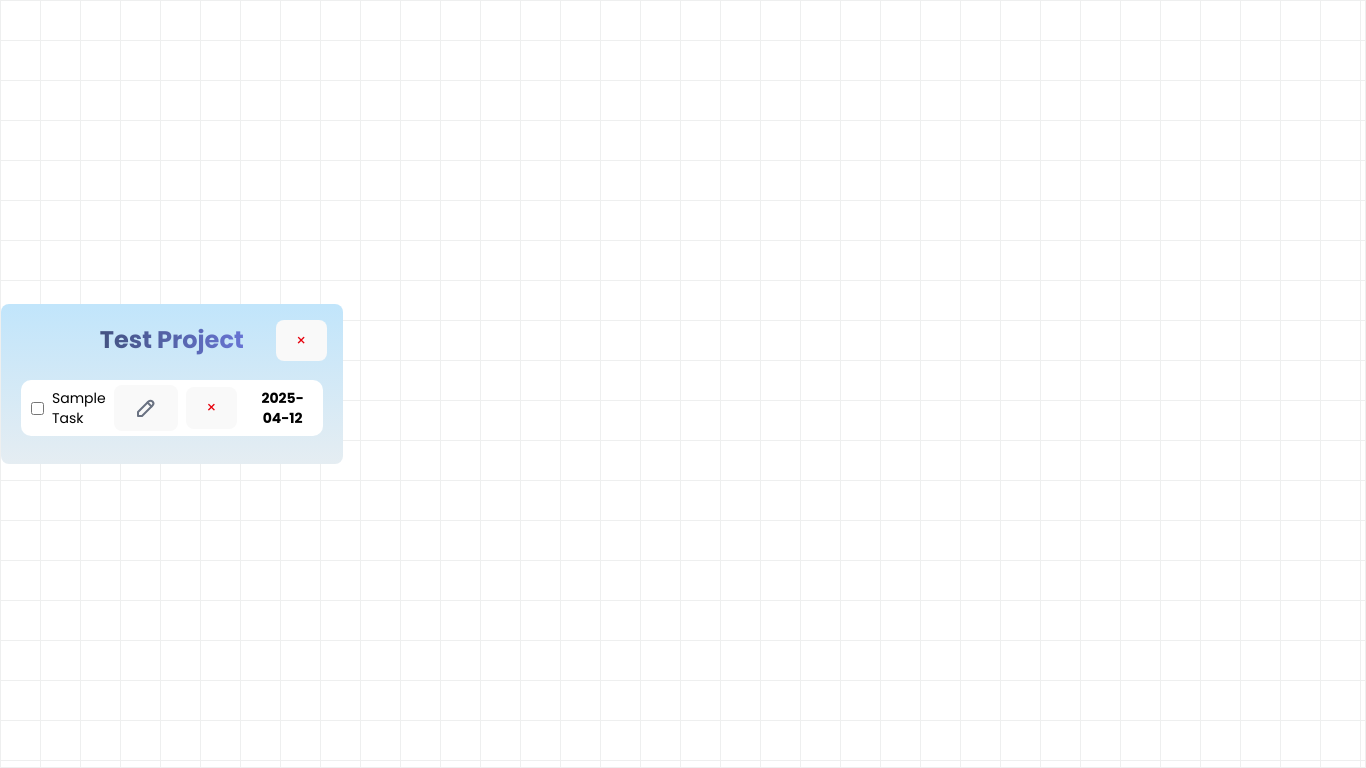
Test: ProjectList Component › edits a task name and due date
This screenshot has width=1366, height=768.
Expected: the text "Test Project" is shown, [21,324,322,356]
# get edit button and check if it opens the modal
Click the button with test id "edit-task-button-101" at [146, 408], box [114,385,178,431]
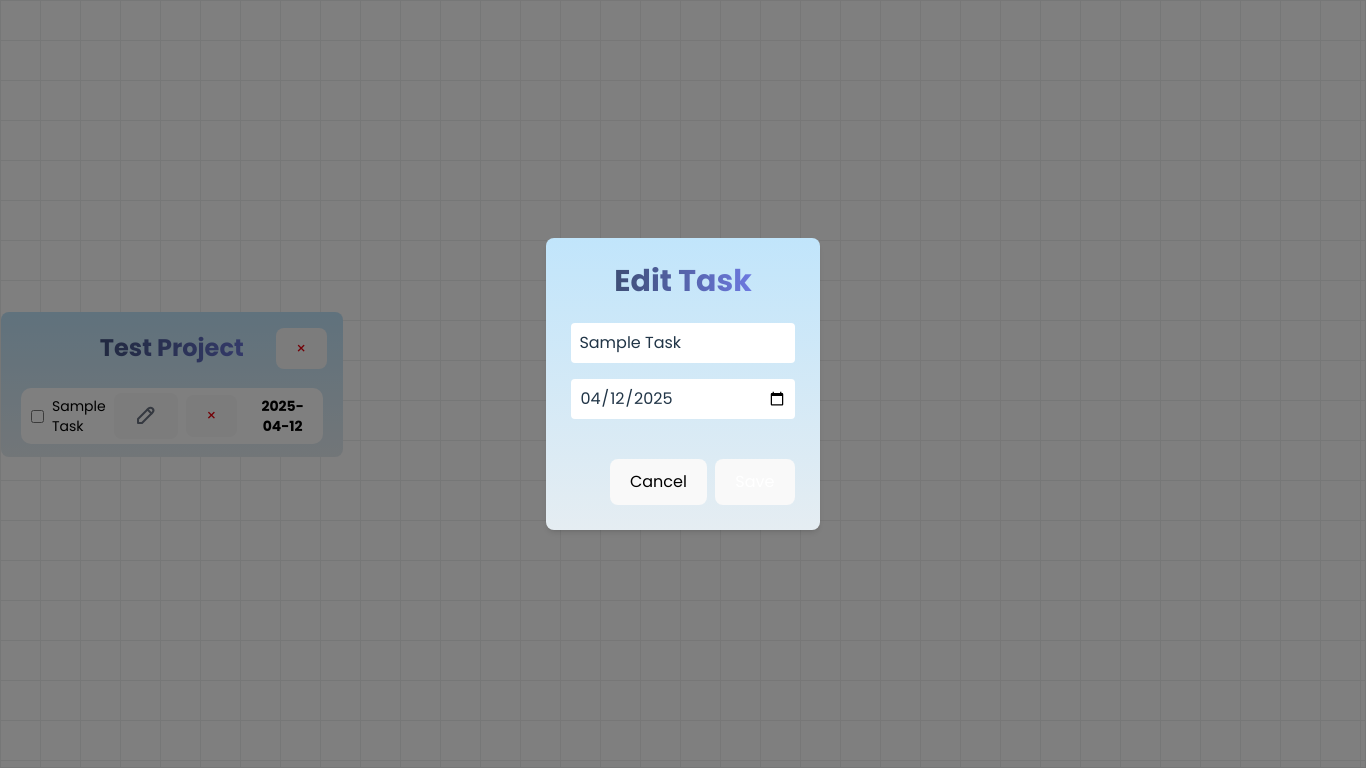
Expected: the element with test id "edit-task-modal" is shown
# simulate changing task name and due dates
Replace the text in the field with test id "task-name-input" with "Updated Task" at [683, 343], box [571,323,795,363]
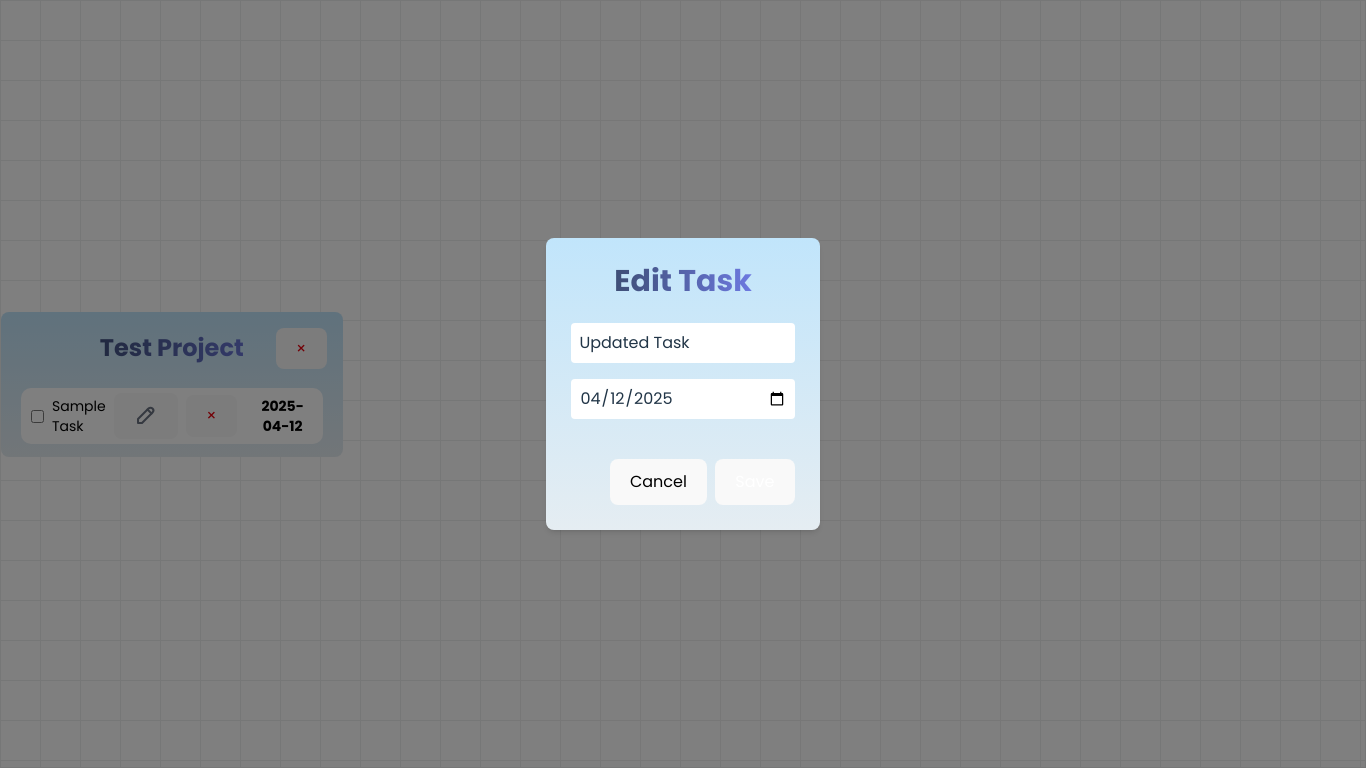
Type "2025-05-01" into the date field with test id "task-date-input" at [683, 399], box [571,379,795,419]
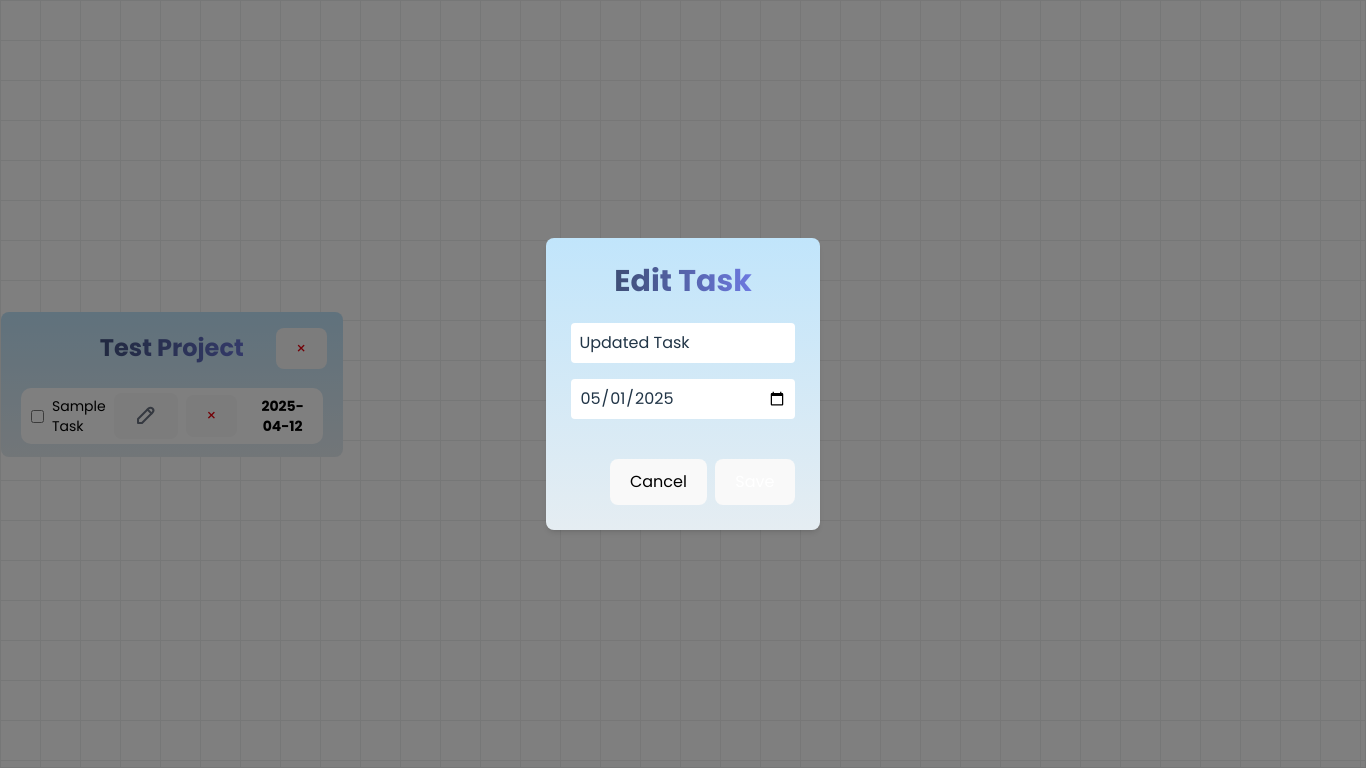
# get save button and save the changes
Click the button with test id "save-button" at [755, 482], box [715,459,795,505]
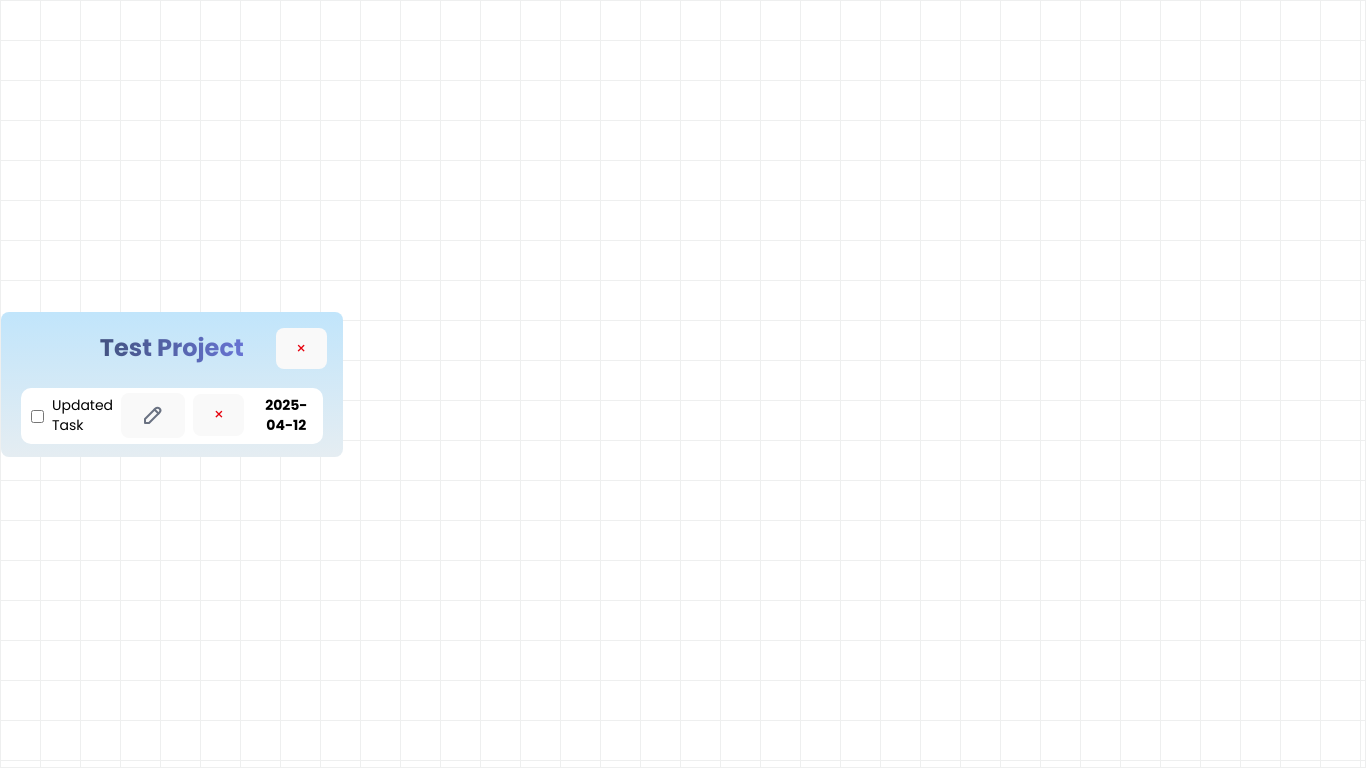
Expected: the element with test id "edit-task-modal" is gone
